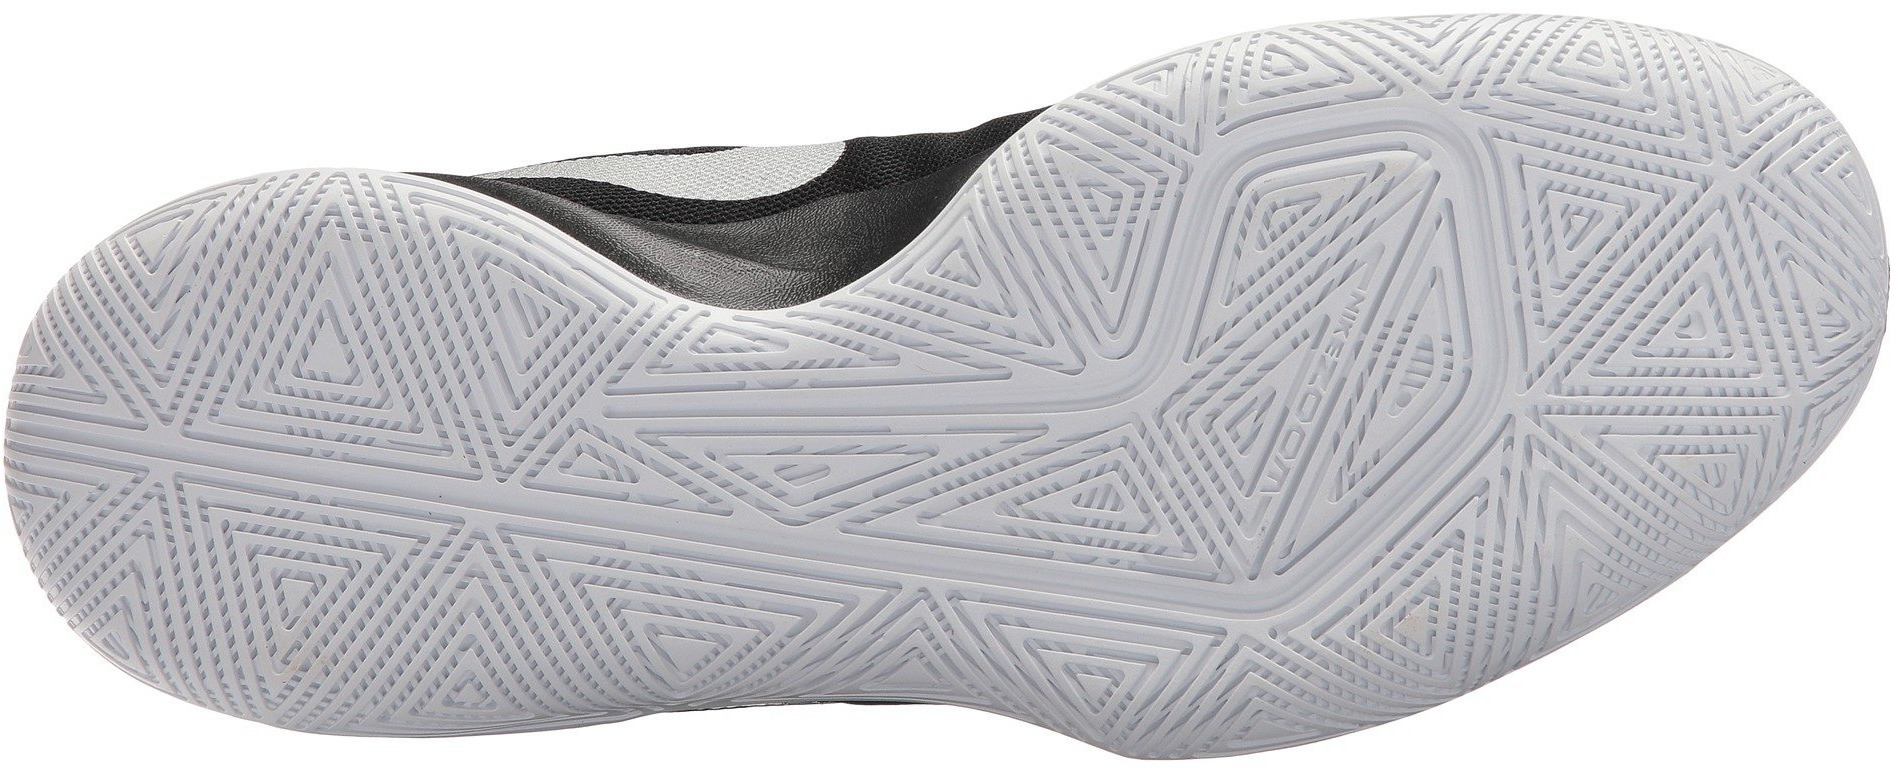exclude: (317, 681, 1143, 768)
line: (76, 236, 571, 704), (583, 327, 970, 685), (1494, 81, 1845, 404), (971, 340, 1281, 633), (1227, 25, 1442, 220), (1072, 183, 1258, 357), (1279, 282, 1390, 438)
text: (1279, 282, 1390, 438)
triangle: (76, 236, 571, 704), (583, 327, 970, 685), (1494, 81, 1845, 404), (971, 340, 1281, 633), (1227, 25, 1442, 220)
